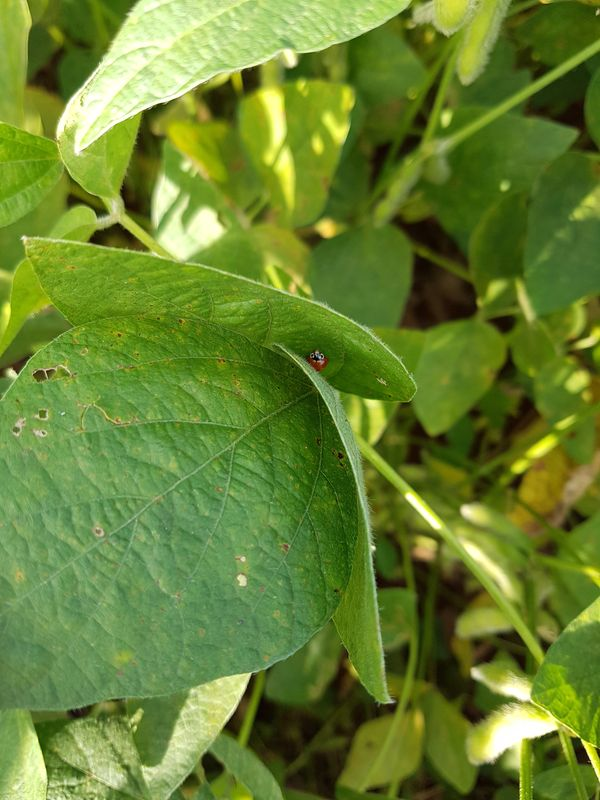Coccinellidae: (299, 339, 335, 376)
